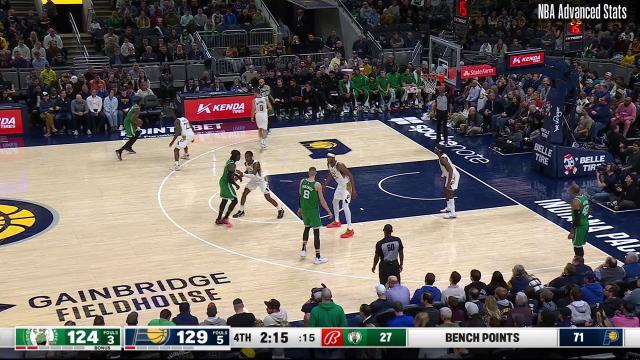3_sx: (384, 122, 391, 130)
b_sx: (374, 115, 382, 123)
free_adx: (306, 225, 314, 231)
free_bdx: (514, 200, 526, 208)
mid_sx: (119, 136, 125, 142)
referee: (372, 222, 404, 292), (428, 84, 452, 144)
team: (298, 166, 329, 266), (565, 184, 595, 266), (212, 148, 240, 230), (117, 98, 147, 160), (256, 80, 276, 134)
team1: (236, 148, 288, 218), (432, 145, 466, 223), (325, 151, 355, 237), (170, 110, 194, 172), (252, 90, 272, 150)
timer: (256, 327, 292, 349)
